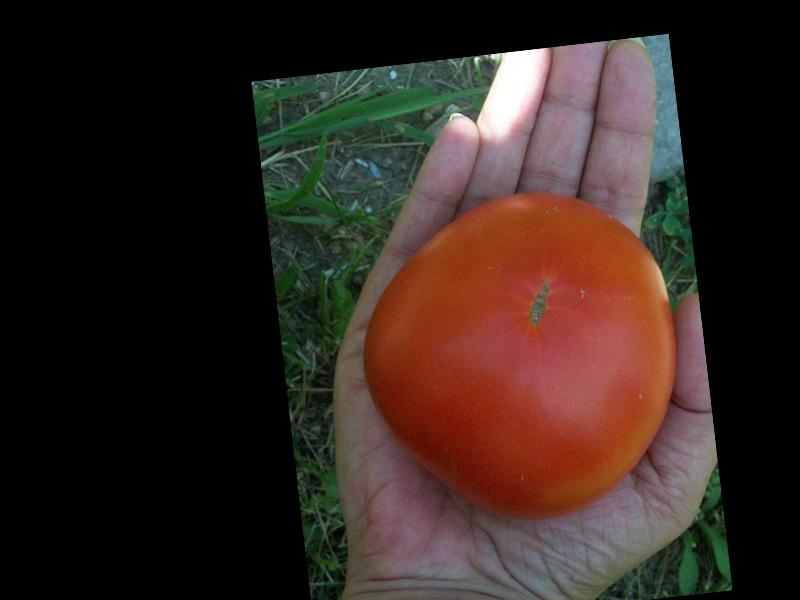Tomato: (346, 179, 693, 533)
